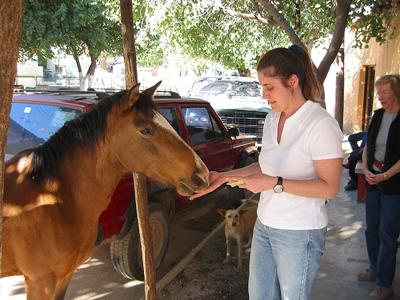person: (190, 46, 345, 300)
